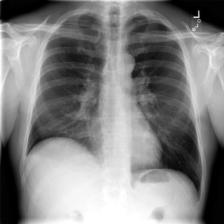normal: (23, 6, 208, 203)
